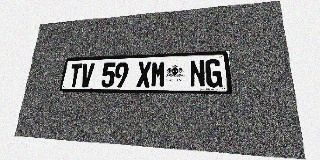5: (101, 62, 116, 87)
9: (114, 62, 129, 87)
G: (205, 59, 223, 88)
M: (151, 61, 166, 88)
N: (189, 59, 206, 88)
T: (68, 64, 83, 87)
V: (80, 63, 94, 87)
X: (136, 61, 151, 87)
